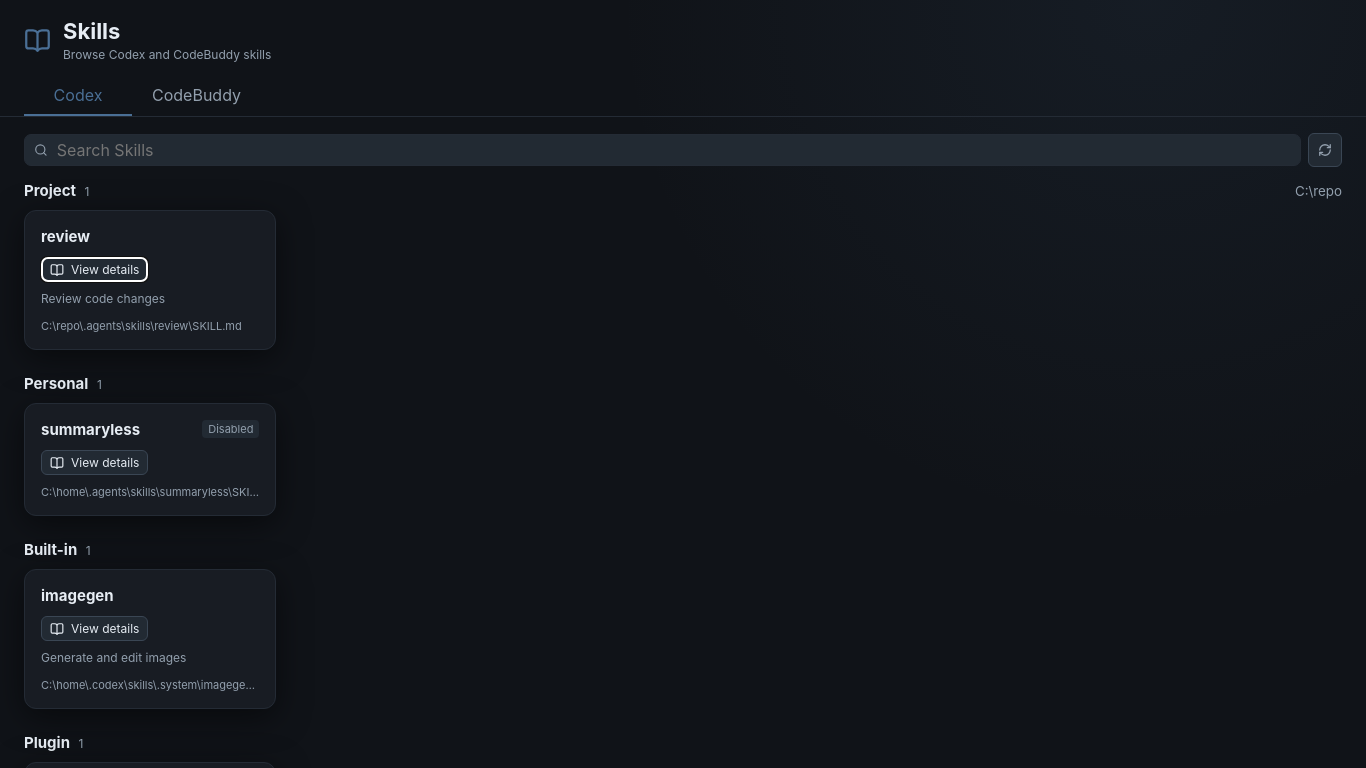
Test case: SkillsManager › opens a portal immediately, traps focus and restores it after Escape
This screenshot has width=1366, height=768.
Click the button "View details" below "Project" at [95, 270], box x1=41 y1=257 x2=148 y2=282
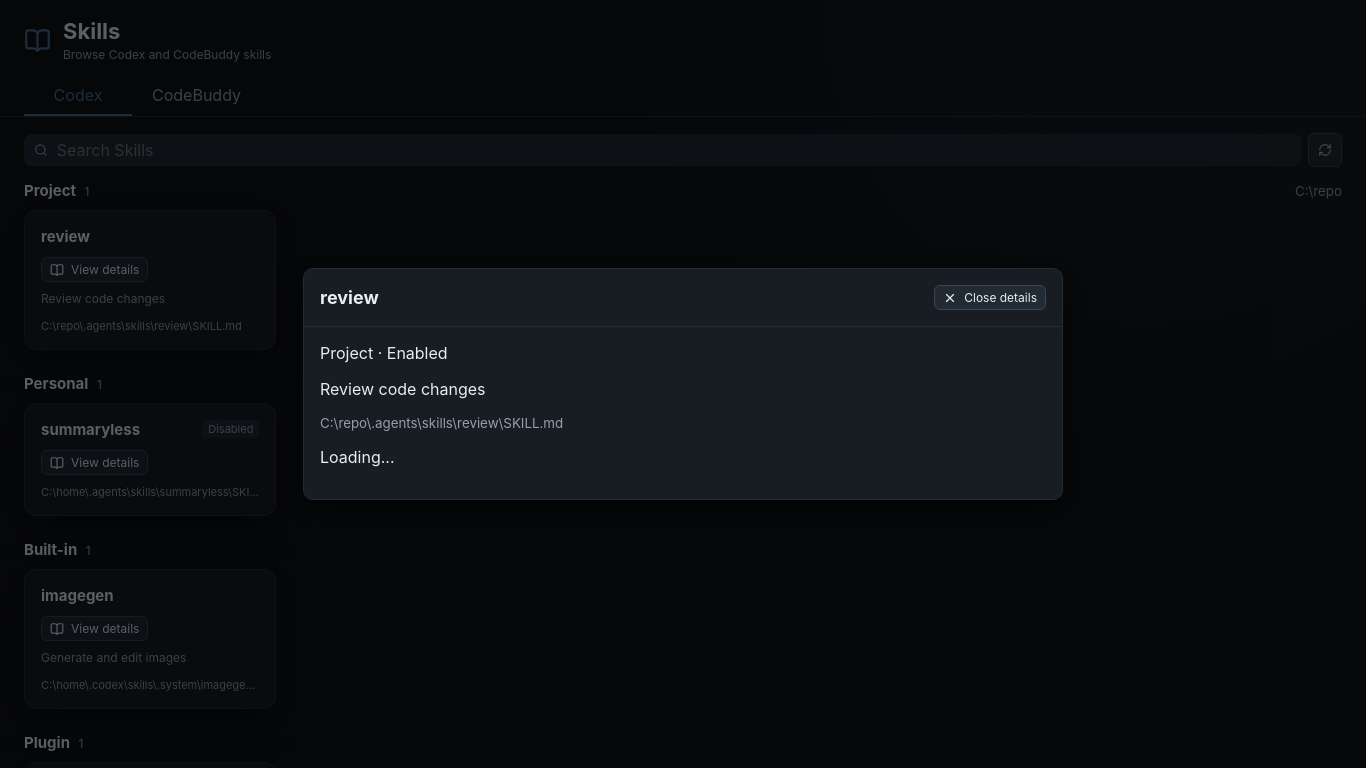
Expected: the message shows "Loading", x1=320 y1=447 x2=394 y2=467
Press Tab in the dialog, box x1=303 y1=268 x2=1063 y2=500
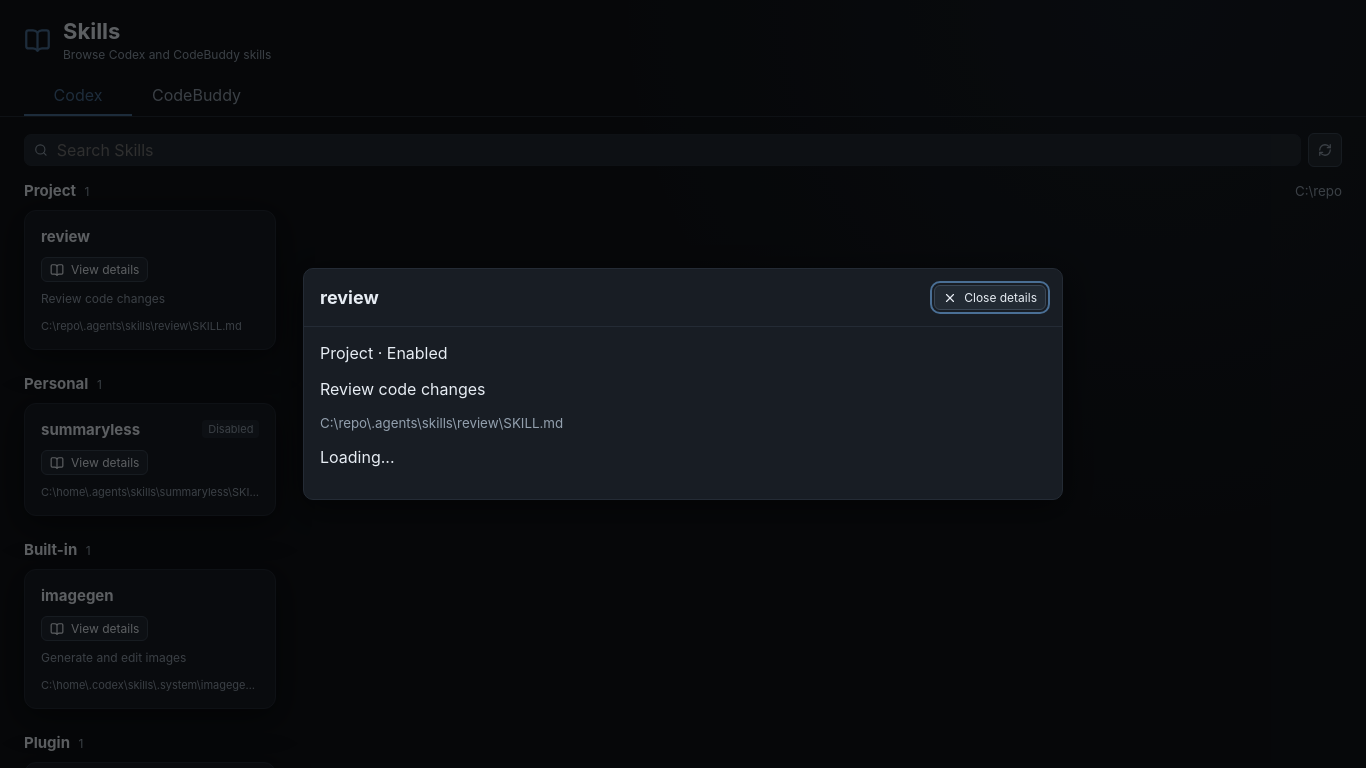
Press Escape in the button "Close details", box x1=934 y1=285 x2=1046 y2=310
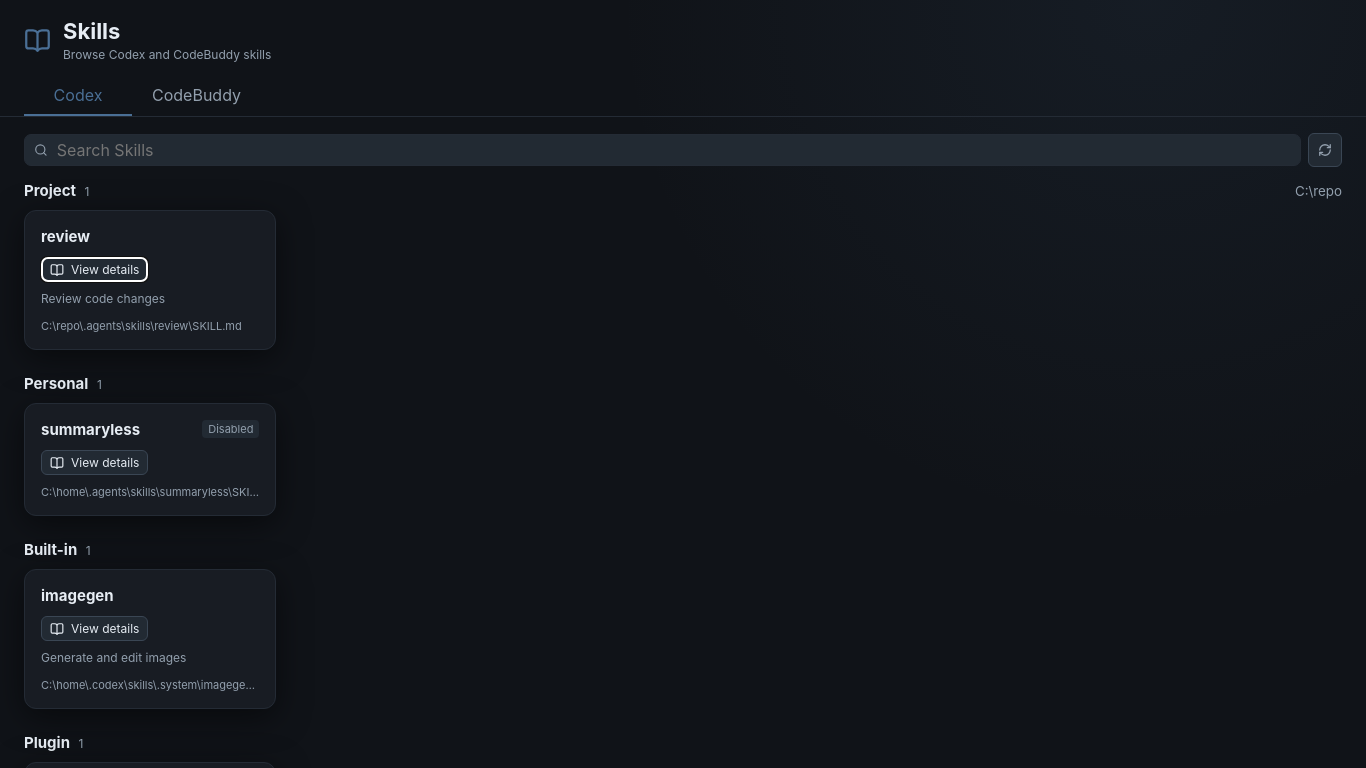
Expected: the dialog is gone
